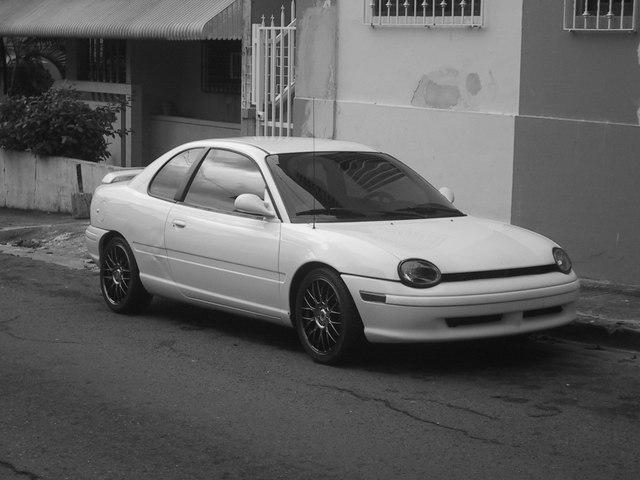car: (85, 136, 577, 363)
